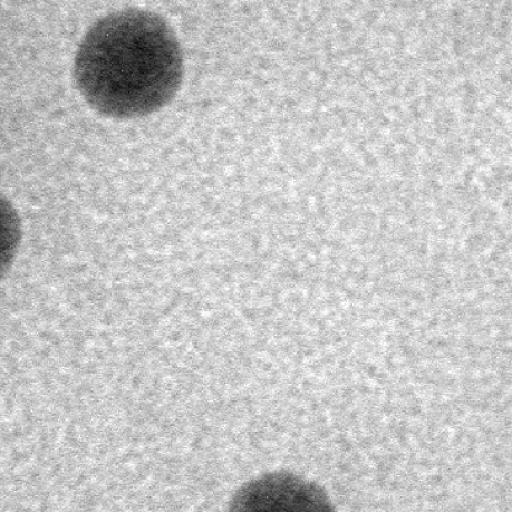Nanoparticles: (73, 6, 186, 122), (228, 465, 335, 512), (2, 194, 23, 273)
